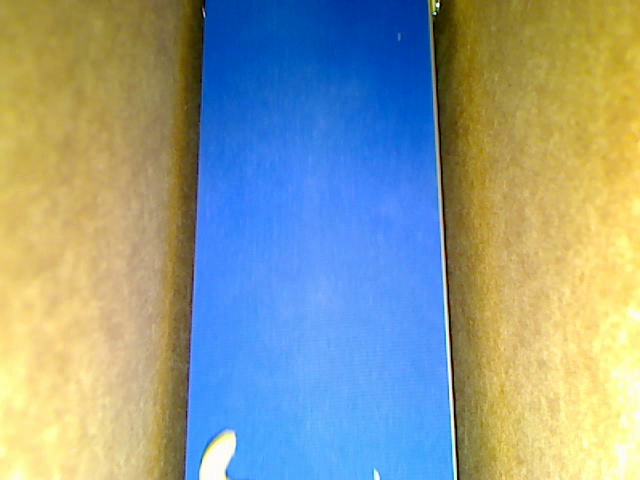elbow: (198, 428, 238, 479)
